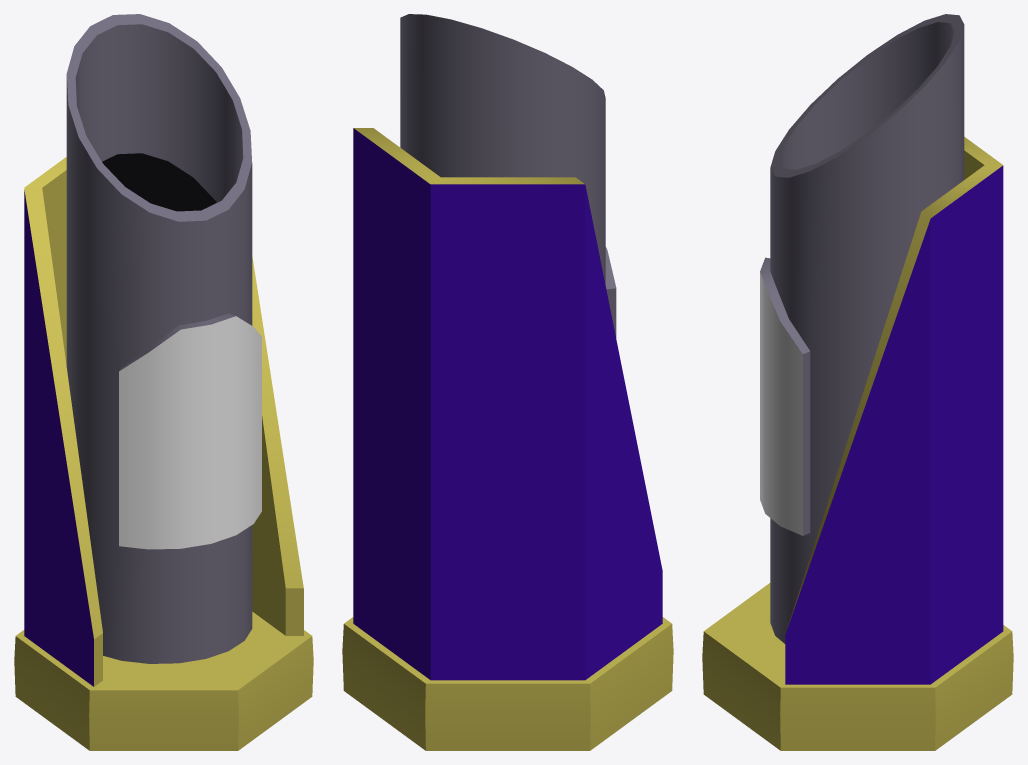
Rendered from kepler-b.glb.
3 views of the same model, side by side, from view 1: azimuth 30°, elevation 25°; view 2: azimuth 150°, elevation 25°; view 3: azimuth 270°, elevation 25° (orthographic). The views are drawn at different scales.
Parts seen in each view (by area): view 1: Kepler; view 2: Kepler; view 3: Kepler.
Part boxes in pixels (<box>): Kepler: <box>14,14,313,750</box>; Kepler: <box>342,14,673,750</box>; Kepler: <box>702,14,1013,750</box>.
Size of the model in its own units: 0.0278 by 0.0762 by 0.0321.
Materials: 2 (2 with a texture image).
